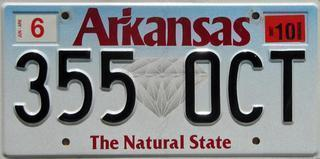placa de veiculo: (4, 0, 316, 155)
